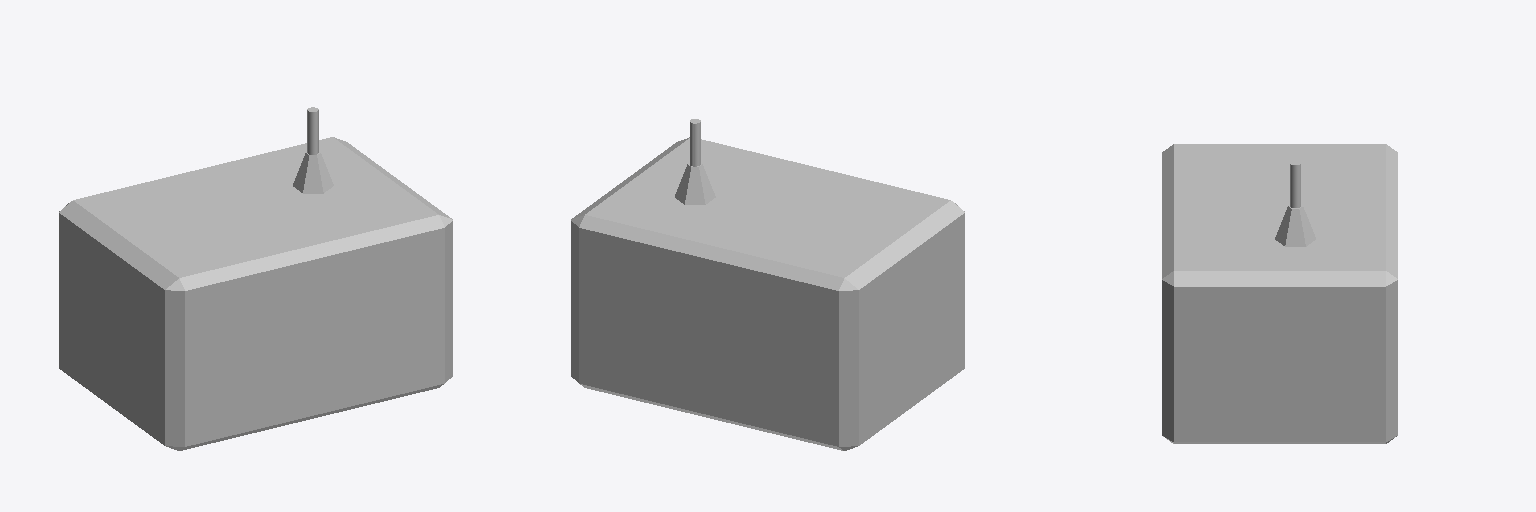
Rendered from Droid_head_new.obj.
3 views of the same model, side by side, from view 1: azimuth 30°, elevation 25°; view 2: azimuth 150°, elevation 25°; view 3: azimuth 270°, elevation 25° (orthographic).
Parts seen in each view (by area): view 1: Cube_Cube.001, Cone.001, Cylinder; view 2: Cube_Cube.001, Cone.001; view 3: Cube_Cube.001, Cone.001.
Boxes of the visible parts, x1,y1,x2,y2 form: Cube_Cube.001: [59, 137, 452, 450]; Cone.001: [293, 152, 333, 193]; Cylinder: [307, 107, 318, 154]; Cube_Cube.001: [571, 137, 964, 450]; Cone.001: [675, 163, 715, 204]; Cube_Cube.001: [1162, 144, 1397, 443]; Cone.001: [1275, 205, 1315, 246].
Bounding box in the file's own units: 1.77 × 1.47 × 1.26.